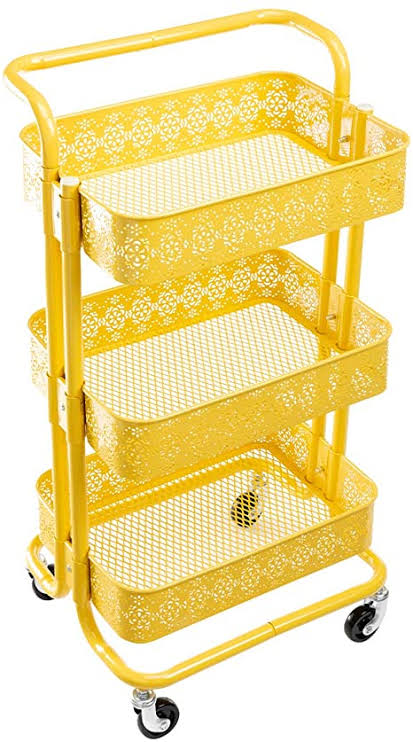Carts: (4, 10, 409, 738)
